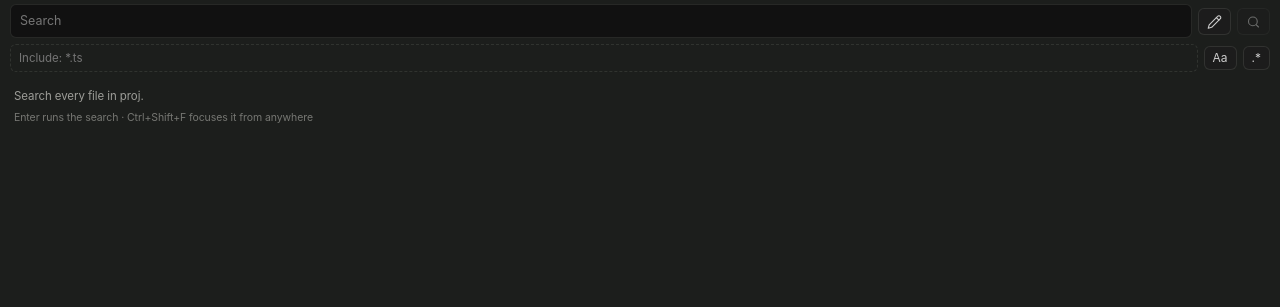
SearchPanel replace preview › a checked match that would not change is not written
Type "hello" into the field with test id "ws-search-query".
click(601, 21); type("hello")  # box [10, 4, 1192, 38]
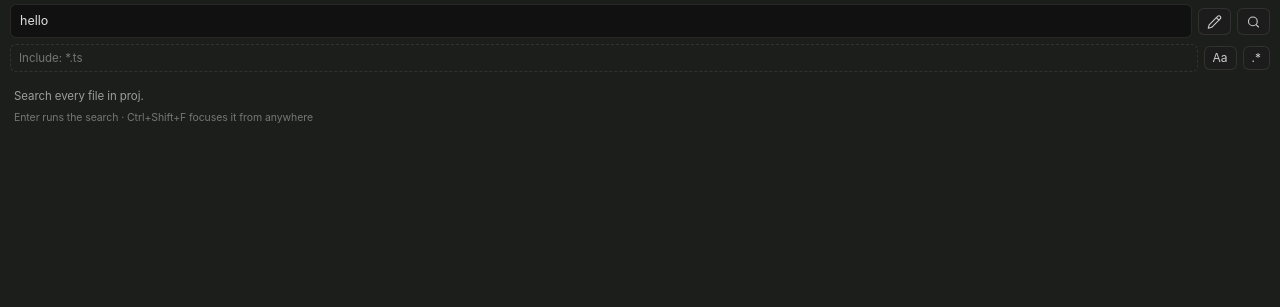
Click the button titled "Match case".
click(1220, 58)  # box [1204, 46, 1236, 70]
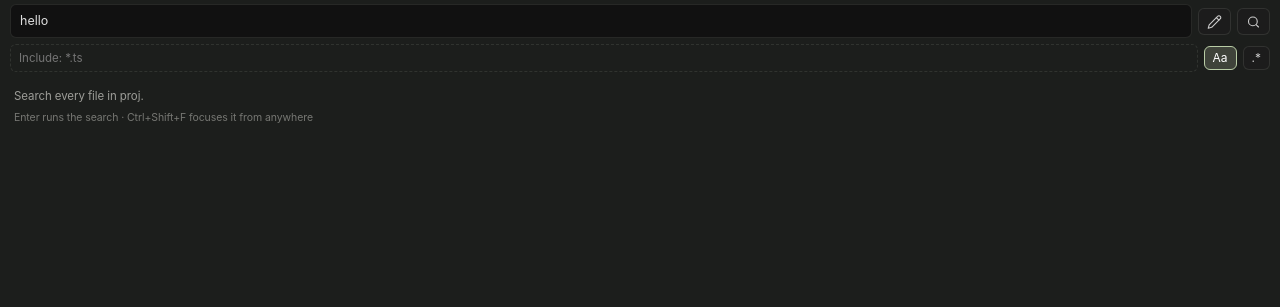
Click the button with test id "ws-search-run".
click(1254, 21)  # box [1237, 8, 1270, 34]
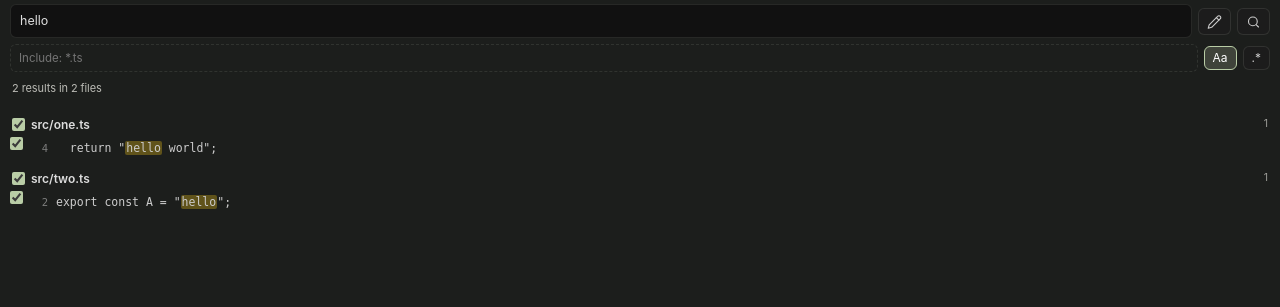
Click the button with test id "ws-search-replace-toggle".
click(1214, 21)  # box [1198, 8, 1231, 34]
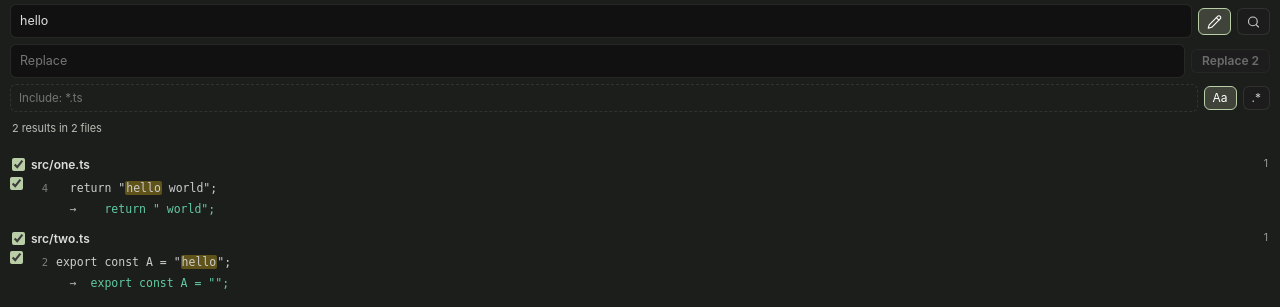
# Replace "hello" with "hello" — nothing changes.
Type "hello" into the field with test id "ws-search-replacement".
click(598, 61); type("hello")  # box [10, 44, 1185, 78]
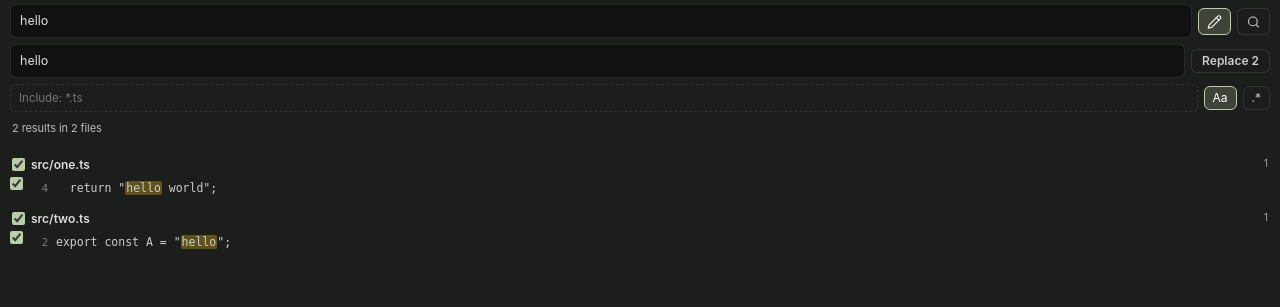
Click the button with test id "ws-search-replace-all".
click(1231, 61)  # box [1191, 49, 1270, 73]
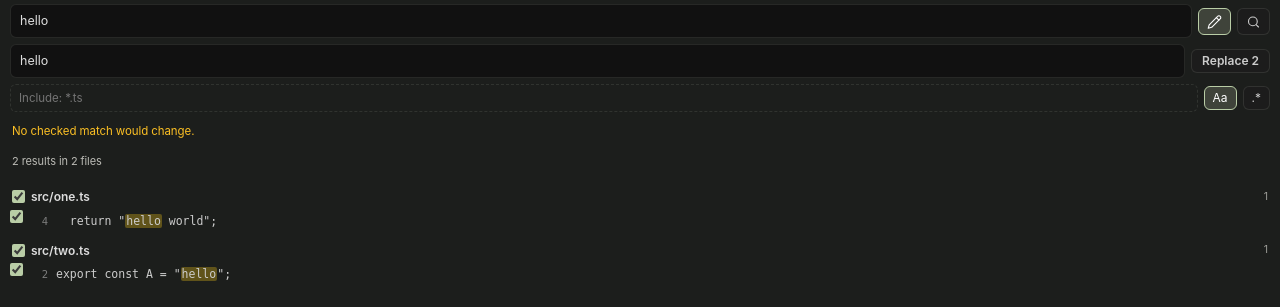
Expected: the message with test id "ws-search-report" reads "No checked match would change.", [12, 124, 194, 138]
